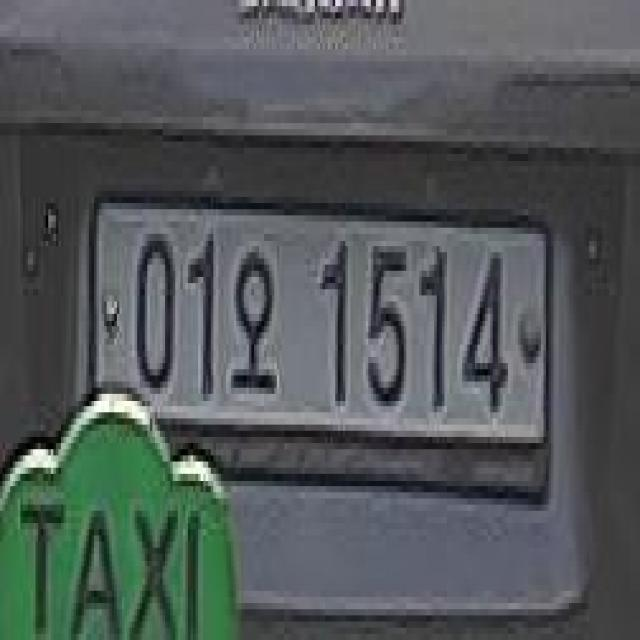illegal_plate: (83, 174, 560, 524)
